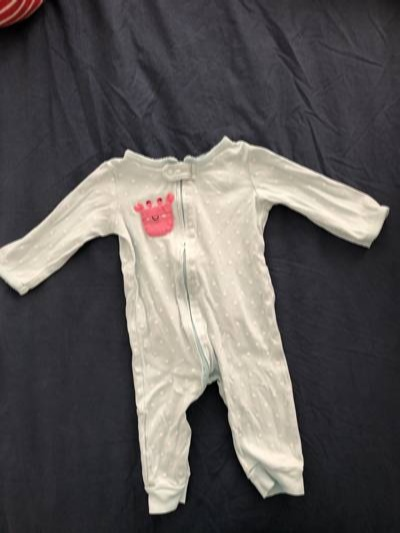Body: (1, 118, 386, 521)
